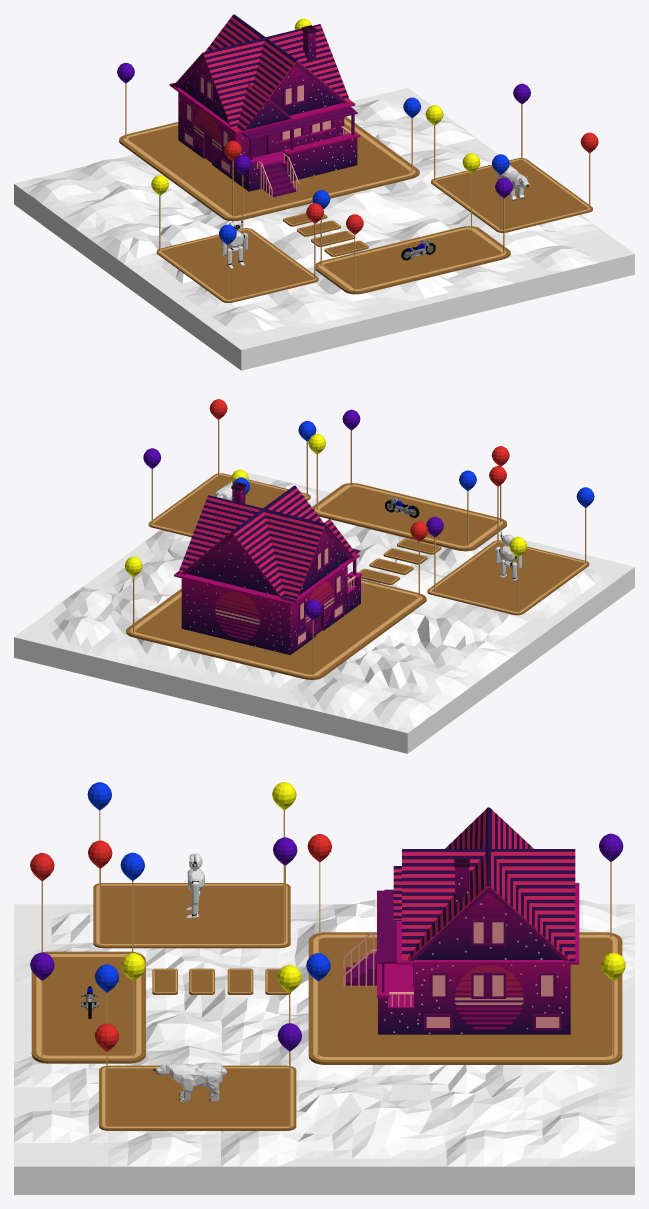
3 views of the same model, one above another, from view 1: azimuth 30°, elevation 25°; view 2: azimuth 150°, elevation 25°; view 3: azimuth 270°, elevation 25° (orthographic). The views are drawn at different scales.
Parts seen in each view (by area): view 1: Cube.013, Cube.156, OBJRANDOM_PLATZEEBOT, ANIMAL_OSO_POLAR; view 2: Cube.013, Cube.156, OBJRANDOM_PLATZEEBOT; view 3: Cube.013, Cube.156, ANIMAL_OSO_POLAR, OBJRANDOM_PLATZEEBOT.
Part boxes in pixels (x1=…): Cube.013: x1=14, y1=18, x2=634, y2=370; Cube.156: x1=169, y1=14, x2=360, y2=198; OBJRANDOM_PLATZEEBOT: x1=221, y1=216, x2=247, y2=268; ANIMAL_OSO_POLAR: x1=497, y1=165, x2=529, y2=200; Cube.013: x1=14, y1=399, x2=634, y2=753; Cube.156: x1=174, y1=482, x2=363, y2=655; OBJRANDOM_PLATZEEBOT: x1=495, y1=530, x2=521, y2=580; Cube.013: x1=14, y1=782, x2=634, y2=1194; Cube.156: x1=343, y1=807, x2=579, y2=1034; ANIMAL_OSO_POLAR: x1=153, y1=1060, x2=226, y2=1101; OBJRANDOM_PLATZEEBOT: x1=186, y1=853, x2=204, y2=918.
Size of the model in its own units: 4000 by 1840 by 4000.
Materials: 30 (3 with a texture image).
